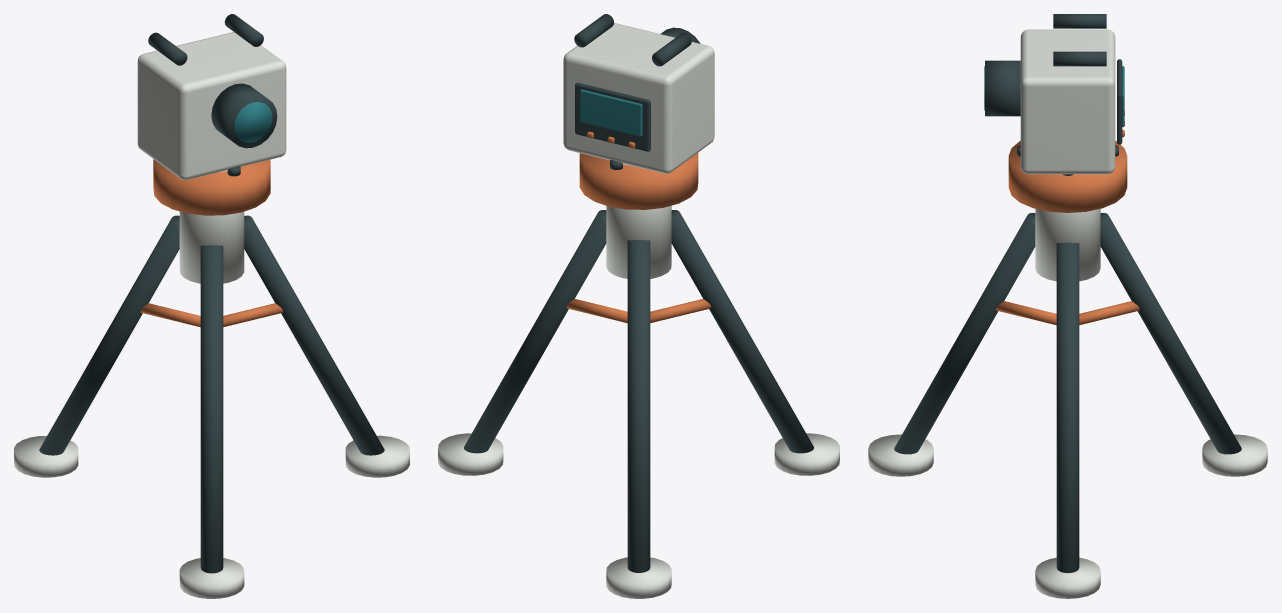
Rendered from eva01-survey.glb.
3 renders of one model, left to right at view 1: azimuth 30°, elevation 25°; view 2: azimuth 150°, elevation 25°; view 3: azimuth 270°, elevation 25°, orthographic.
Visible parts, largest first — view 1: Estación topográfica, Trípode telescópico.002, Trípode telescópico, Trípode telescópico.001, Anillo de calibración, Columna de nivelación, Apoyo nivelable.002, Objetivo, Apoyo nivelable, Apoyo nivelable.001, Lente de medición, Tirante (+3 smaller); view 2: Estación topográfica, Trípode telescópico.001, Trípode telescópico, Trípode telescópico.002, Anillo de calibración, Columna de nivelación, Apoyo nivelable.001, Datos de campo, Apoyo nivelable.002, Apoyo nivelable, Pantalla, Tirante (+3 smaller); view 3: Estación topográfica, Trípode telescópico, Trípode telescópico.001, Trípode telescópico.002, Anillo de calibración, Columna de nivelación, Apoyo nivelable, Objetivo, Apoyo nivelable.001, Apoyo nivelable.002, Asa.001, Asa (+2 smaller).
Boxes of the visible parts, bbox=[...] form: Estación topográfica: bbox=[137, 32, 286, 179]; Trípode telescópico.002: bbox=[200, 245, 223, 573]; Trípode telescópico: bbox=[244, 215, 384, 455]; Trípode telescópico.001: bbox=[39, 215, 179, 455]; Anillo de calibración: bbox=[153, 159, 270, 215]; Columna de nivelación: bbox=[179, 170, 244, 283]; Apoyo nivelable.002: bbox=[179, 558, 244, 598]; Objetivo: bbox=[211, 83, 277, 148]; Apoyo nivelable: bbox=[345, 435, 409, 477]; Apoyo nivelable.001: bbox=[14, 436, 78, 477]; Lente de medición: bbox=[234, 102, 272, 142]; Tirante: bbox=[223, 303, 283, 327]; Estación topográfica: bbox=[563, 22, 714, 173]; Trípode telescópico.001: bbox=[627, 240, 650, 572]; Trípode telescópico: bbox=[464, 210, 606, 453]; Trípode telescópico.002: bbox=[671, 210, 813, 453]; Anillo de calibración: bbox=[579, 153, 698, 209]; Columna de nivelación: bbox=[606, 163, 671, 278]; Apoyo nivelable.001: bbox=[606, 557, 671, 598]; Datos de campo: bbox=[580, 89, 642, 136]; Apoyo nivelable.002: bbox=[774, 433, 839, 475]; Apoyo nivelable: bbox=[438, 433, 503, 475]; Pantalla: bbox=[575, 82, 650, 151]; Tirante: bbox=[566, 299, 627, 323]; Estación topográfica: bbox=[1020, 29, 1115, 174]; Trípode telescópico: bbox=[1056, 242, 1079, 572]; Trípode telescópico.001: bbox=[1100, 212, 1241, 454]; Trípode telescópico.002: bbox=[894, 212, 1035, 454]; Anillo de calibración: bbox=[1008, 141, 1127, 212]; Columna de nivelación: bbox=[1035, 208, 1100, 281]; Apoyo nivelable: bbox=[1035, 557, 1100, 598]; Objetivo: bbox=[985, 60, 1020, 116]; Apoyo nivelable.001: bbox=[1202, 434, 1267, 476]; Apoyo nivelable.002: bbox=[868, 434, 933, 476]; Asa.001: bbox=[1053, 51, 1106, 66]; Asa: bbox=[1053, 14, 1106, 28].
Size of the model in its own units: 1.19 by 1.75 by 1.35.
